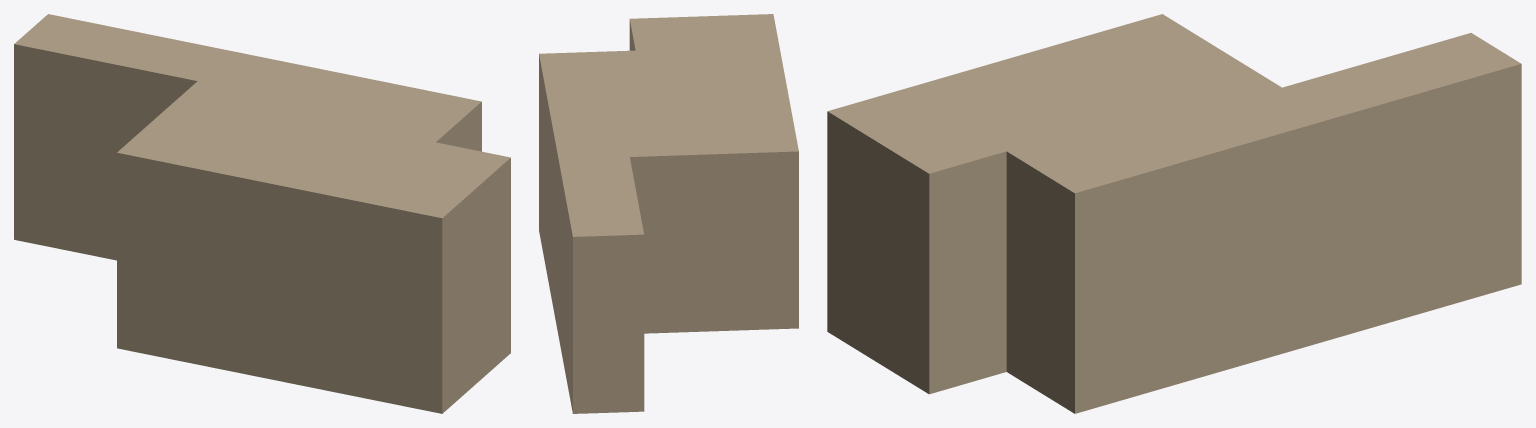
The model's file is bld_106339114.dae.
3 renders of one model, left to right at view 1: azimuth 30°, elevation 25°; view 2: azimuth 150°, elevation 25°; view 3: azimuth 270°, elevation 25°, orthographic. The views are drawn at different scales.
Parts seen in each view (by area): view 1: Spital Farm; view 2: Spital Farm; view 3: Spital Farm.
Part boxes in pixels (x1,y1,x2,y2): Spital Farm: (14,14,510,413); Spital Farm: (539,14,798,413); Spital Farm: (827,14,1521,413).
Size of the model in its own units: 13.95 by 22.82 by 8.
